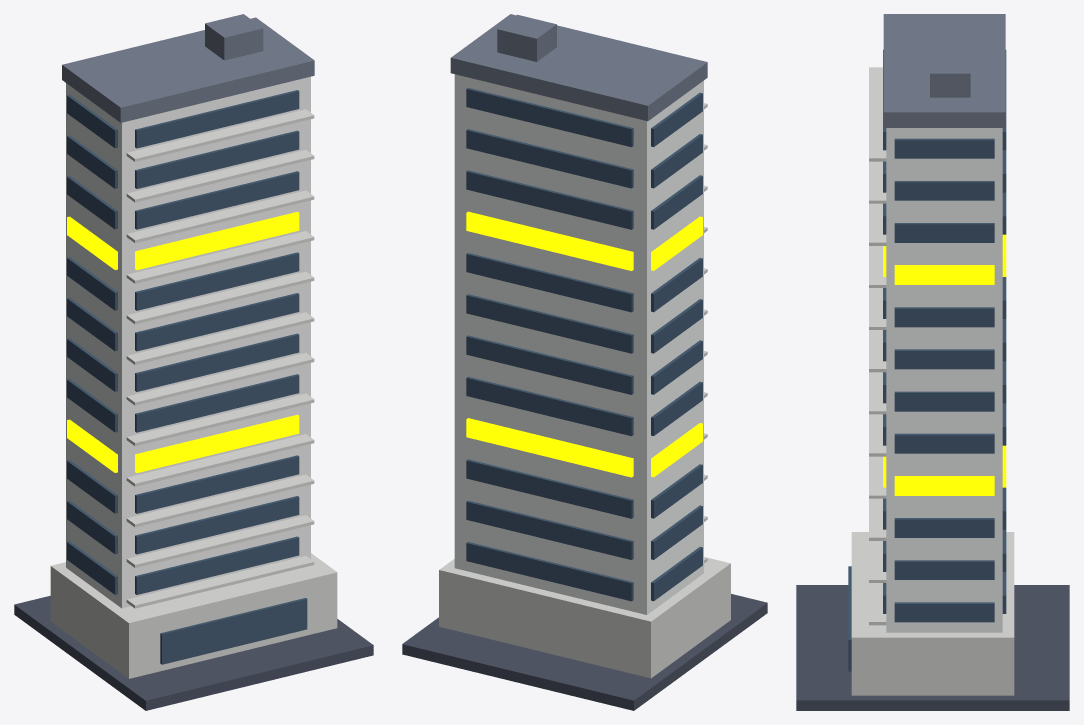
Rendered from tower_slab.glb.
The picture shows the model from 3 angles, left to right: view 1: azimuth 30°, elevation 25°; view 2: azimuth 150°, elevation 25°; view 3: azimuth 270°, elevation 25°; orthographic projection. The views are drawn at different scales.
Parts seen in each view (by area): view 1: tower_slab_body; view 2: tower_slab_body; view 3: tower_slab_body.
Part boxes in pixels (<box>): tower_slab_body: <box>14,14,373,710</box>; tower_slab_body: <box>402,14,767,710</box>; tower_slab_body: <box>796,14,1069,710</box>.
Size of the model in its own units: 0.94 by 2.33 by 0.94.
